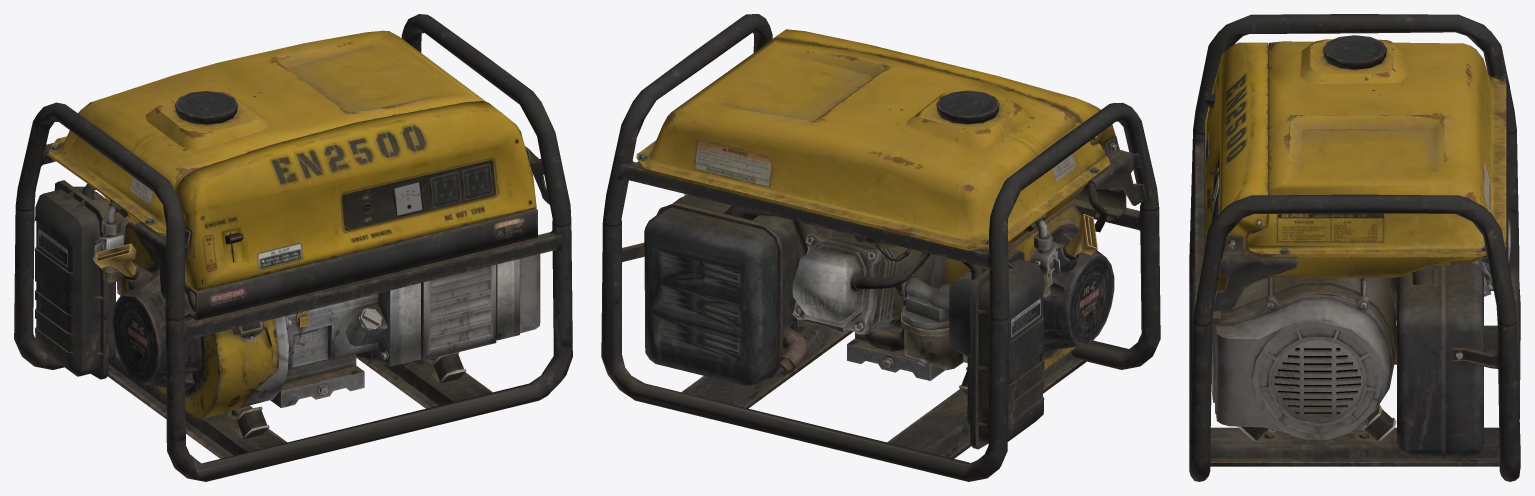
The model's file is portable_generator.glb.
The picture shows the model from 3 angles, left to right: view 1: azimuth 30°, elevation 25°; view 2: azimuth 150°, elevation 25°; view 3: azimuth 270°, elevation 25°; orthographic projection.
Visible parts, largest first — view 1: portable_generator; view 2: portable_generator; view 3: portable_generator.
Boxes of the visible parts, left/top/right/bottom form: portable_generator: left=14, top=14, right=572, bottom=481; portable_generator: left=601, top=14, right=1160, bottom=481; portable_generator: left=1189, top=14, right=1520, bottom=481.
Bounding box in the file's own units: 0.8169 × 0.5752 × 0.564.
Materials: 2 (2 with a texture image).
